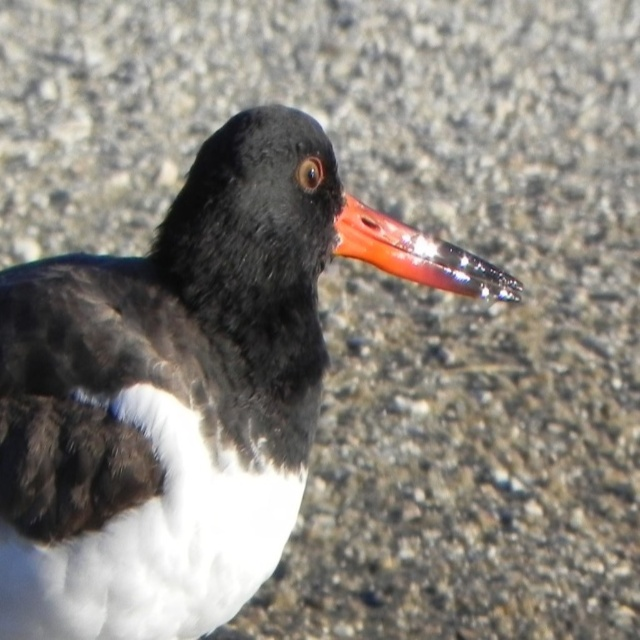Duck: (28, 80, 513, 640)
